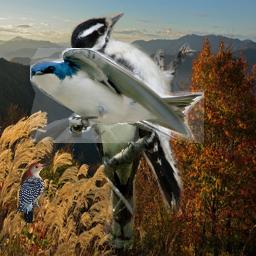Cuckoo: (60, 61, 151, 249)
Swallow: (30, 48, 204, 143)
Woodpecker: (69, 12, 198, 214), (17, 162, 53, 223)
